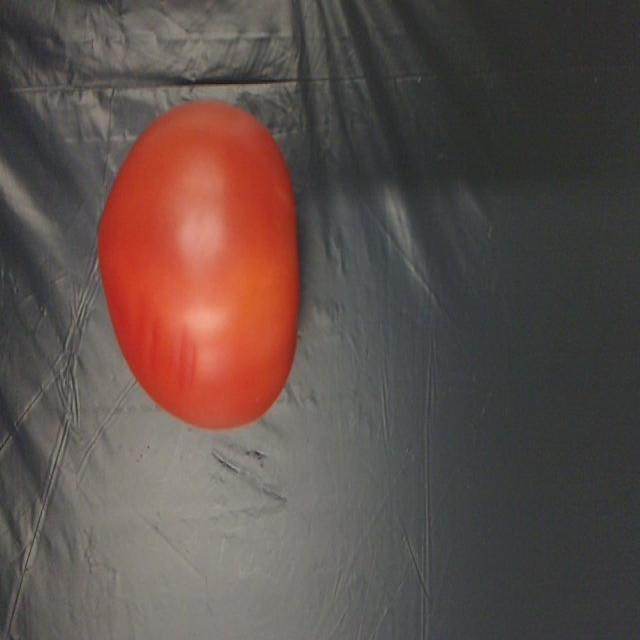kirmizi: (95, 104, 298, 428)
